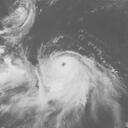cyclone: (37, 51, 100, 108)
